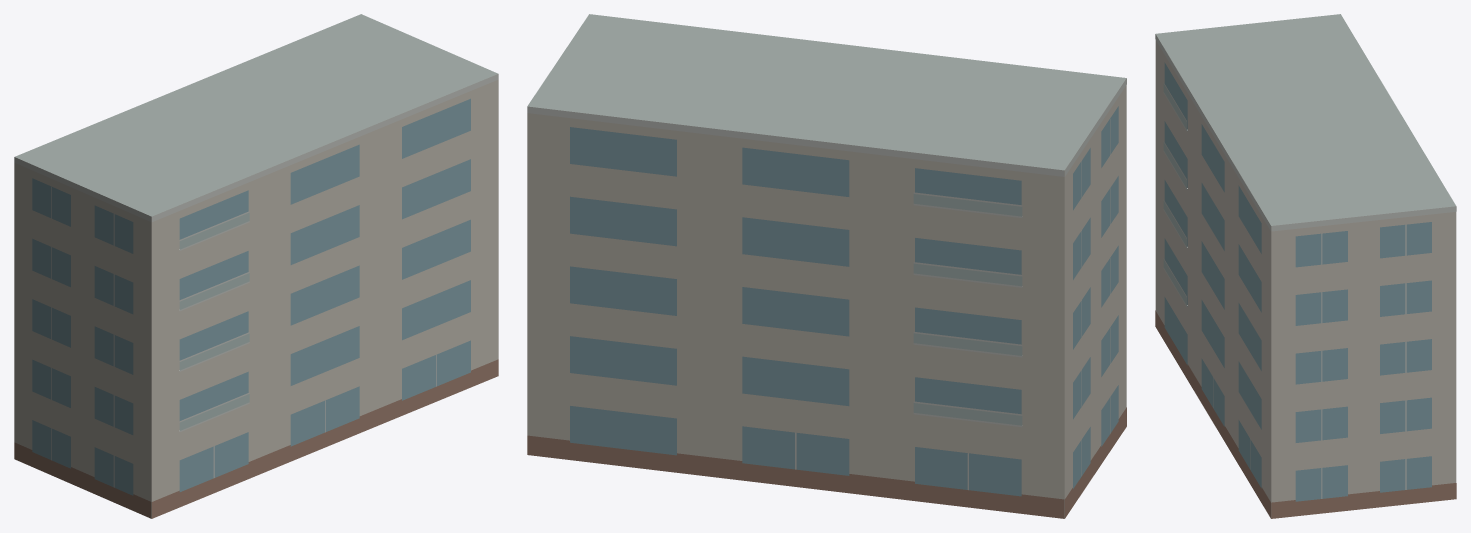
File: survey-upis-32962305.glb
The picture shows the model from 3 angles, left to right: view 1: azimuth 30°, elevation 25°; view 2: azimuth 150°, elevation 25°; view 3: azimuth 270°, elevation 25°; orthographic projection. The views are drawn at different scales.
Parts seen in each view (by area): view 1: survey-upis-32962305.tmp; view 2: survey-upis-32962305.tmp; view 3: survey-upis-32962305.tmp.
Part boxes in pixels (x1=…): survey-upis-32962305.tmp: x1=14, y1=14, x2=498, y2=518; survey-upis-32962305.tmp: x1=527, y1=14, x2=1126, y2=518; survey-upis-32962305.tmp: x1=1155, y1=14, x2=1456, y2=518.
Bounding box in the file's own units: 20.03 × 12.9 × 12.02.
